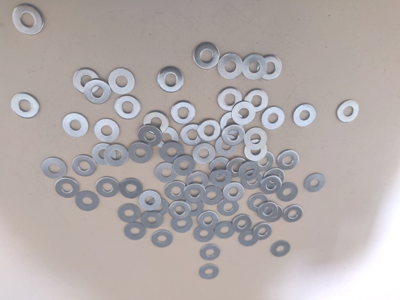circle: (12, 4, 44, 35), (193, 43, 221, 70), (11, 93, 40, 119), (74, 68, 101, 95), (109, 68, 135, 95), (158, 67, 185, 93), (85, 79, 112, 104), (258, 54, 283, 81), (115, 95, 141, 120), (218, 54, 243, 80), (63, 113, 89, 137), (243, 54, 267, 80), (95, 119, 120, 143), (144, 111, 169, 135), (171, 101, 196, 125), (218, 88, 243, 112), (232, 101, 256, 126), (245, 89, 269, 113), (104, 144, 129, 167), (72, 155, 98, 177), (155, 126, 179, 149), (262, 106, 286, 129), (138, 125, 163, 147), (220, 112, 245, 134), (337, 100, 360, 123), (294, 104, 317, 127), (180, 124, 203, 147), (198, 120, 221, 143), (43, 158, 67, 180), (128, 143, 153, 164), (173, 155, 196, 177), (222, 125, 245, 147), (245, 128, 268, 150), (245, 140, 268, 162), (93, 144, 117, 165), (76, 191, 100, 212), (120, 178, 143, 199), (155, 162, 178, 183), (161, 142, 184, 163), (193, 143, 216, 164), (216, 135, 239, 156), (56, 178, 80, 198), (187, 171, 209, 192), (209, 157, 231, 178), (239, 161, 261, 182), (97, 177, 120, 197), (277, 150, 300, 170), (139, 191, 162, 211), (119, 204, 141, 224), (226, 158, 248, 178), (222, 183, 245, 202), (202, 186, 223, 206), (254, 151, 274, 172), (125, 222, 147, 241), (169, 201, 191, 220), (147, 198, 169, 217), (304, 174, 326, 193), (184, 184, 206, 203), (184, 198, 204, 218), (277, 183, 298, 202), (198, 211, 219, 230), (172, 214, 193, 233), (248, 193, 269, 212), (166, 182, 187, 201), (242, 171, 263, 190), (261, 176, 282, 195), (264, 169, 285, 188), (210, 170, 233, 187), (253, 222, 273, 241), (219, 198, 239, 217), (142, 211, 163, 229), (283, 205, 304, 223), (239, 229, 260, 247), (152, 231, 173, 248), (216, 222, 236, 239), (194, 226, 215, 242), (200, 245, 220, 261), (271, 241, 291, 257), (199, 265, 219, 280)
